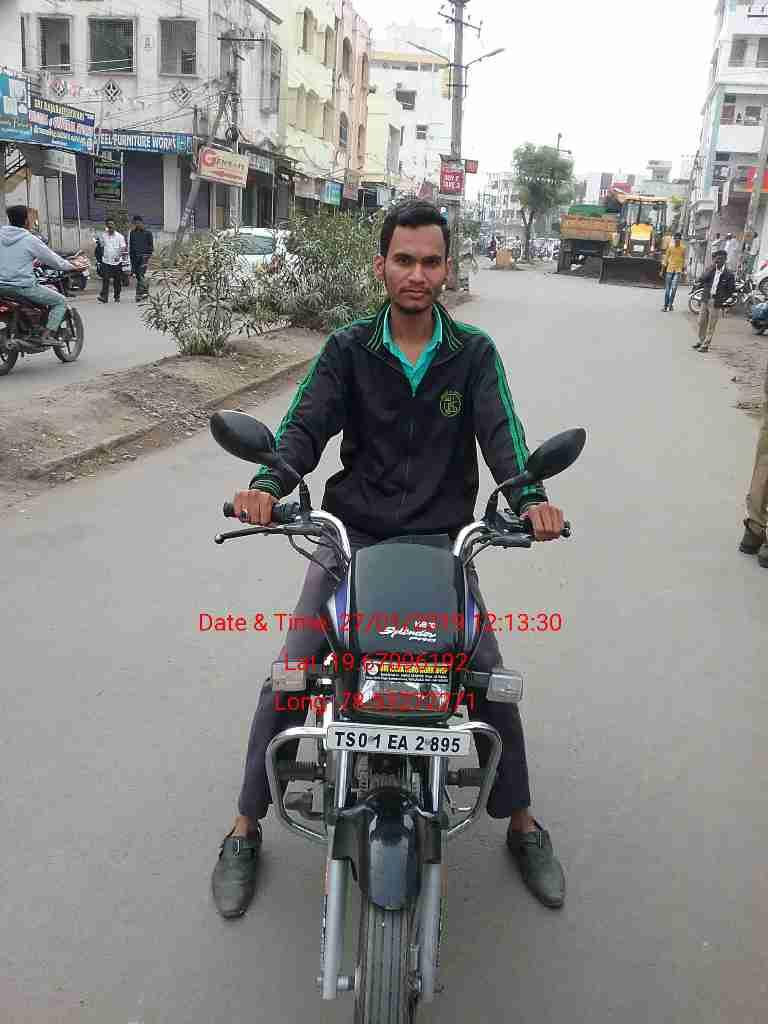plate: (318, 719, 479, 761)
